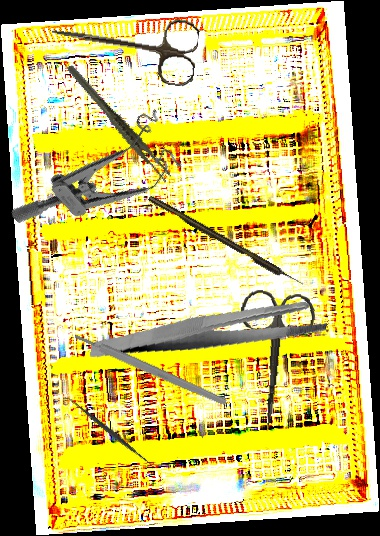Dressing Forceps: (89, 277, 330, 385)
Hook Surgical: (147, 193, 305, 290)
Iris Scissors: (228, 288, 319, 434), (47, 2, 201, 88)
Scalpel Handle: (73, 330, 228, 408)
Spatula Surgical: (61, 391, 157, 471)
Speculum: (9, 96, 195, 272)
Tissue Forceps: (65, 49, 174, 197)
